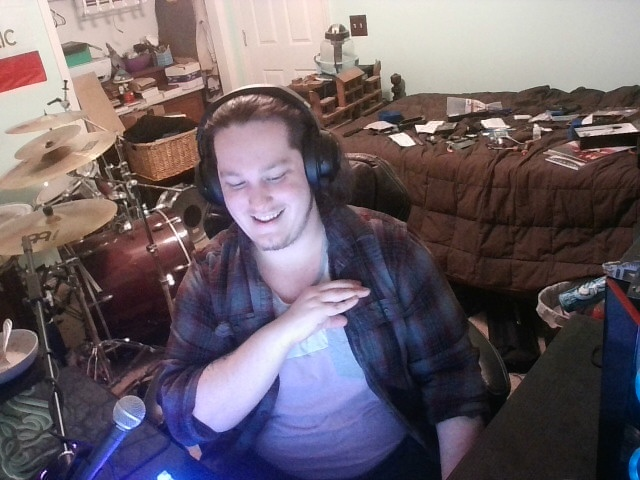police: (258, 269, 403, 352)
